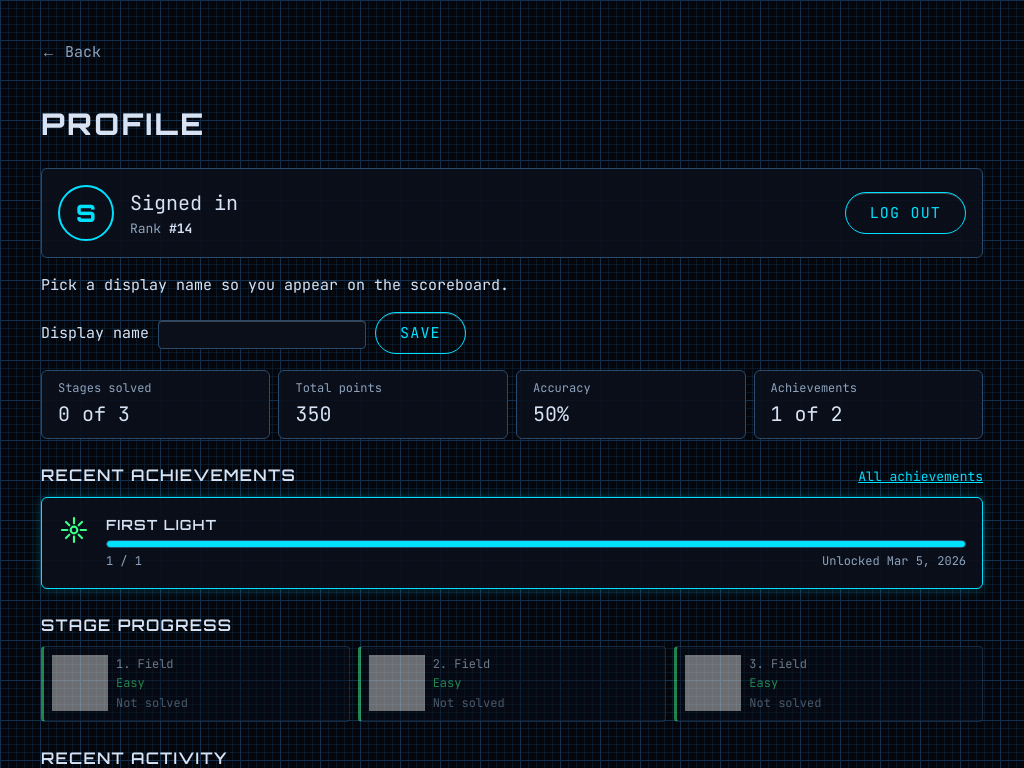
Test: ProfileScreen › asks a user without a profile row to pick a name once, inserts it, then hides the form
Expected: the text "Stages solved" is shown, [58,380,152,396]
Expected: the text "Pick a display name so you appear on the scoreboard." is shown, [41,275,509,295]
In the field labelled "Display name": (262, 335) [158,320,366,349], type "  Nova  "
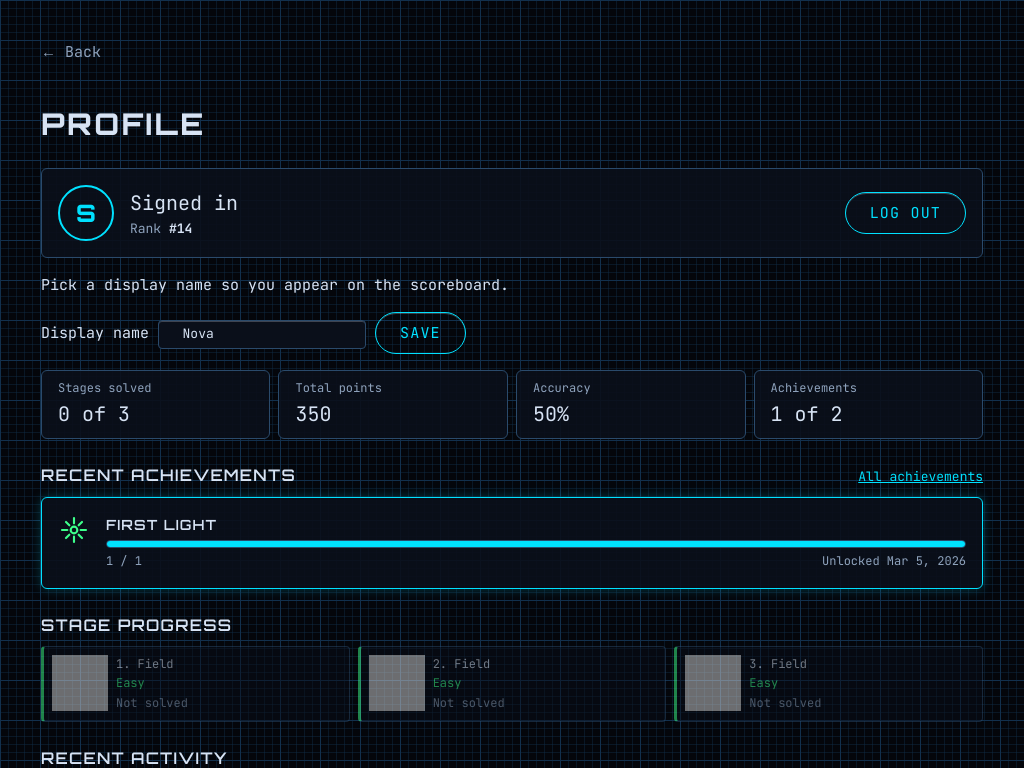
Click the button "Save": (420, 333) [375,312,466,354]
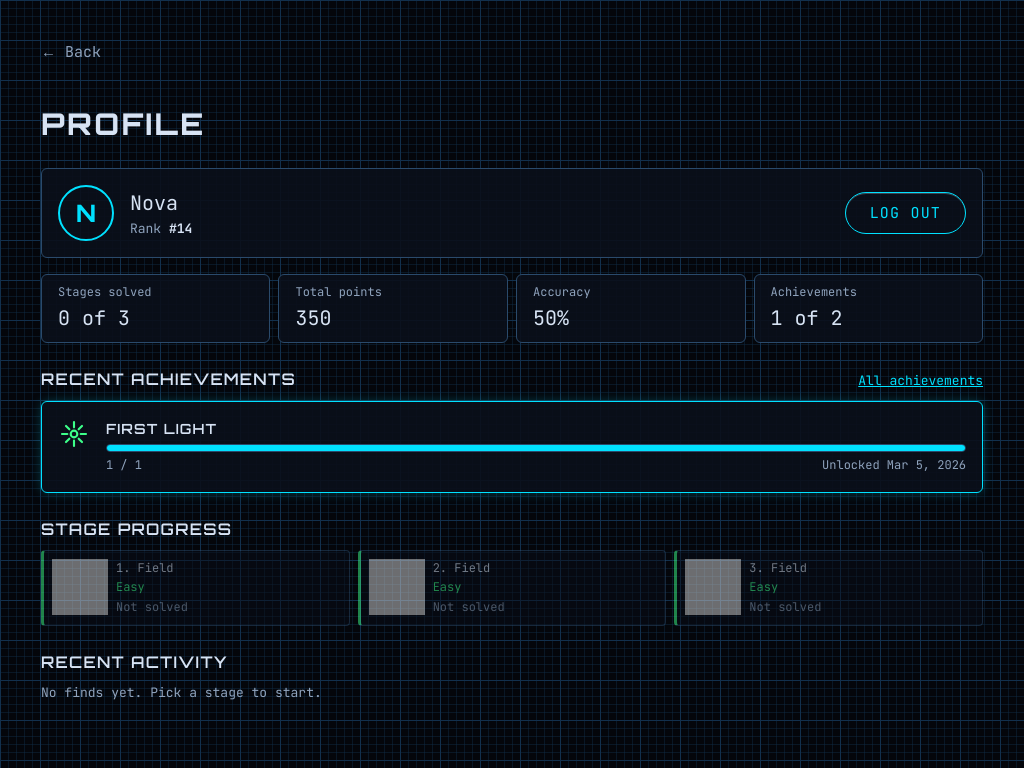
Now the text labelled "display name" is gone
